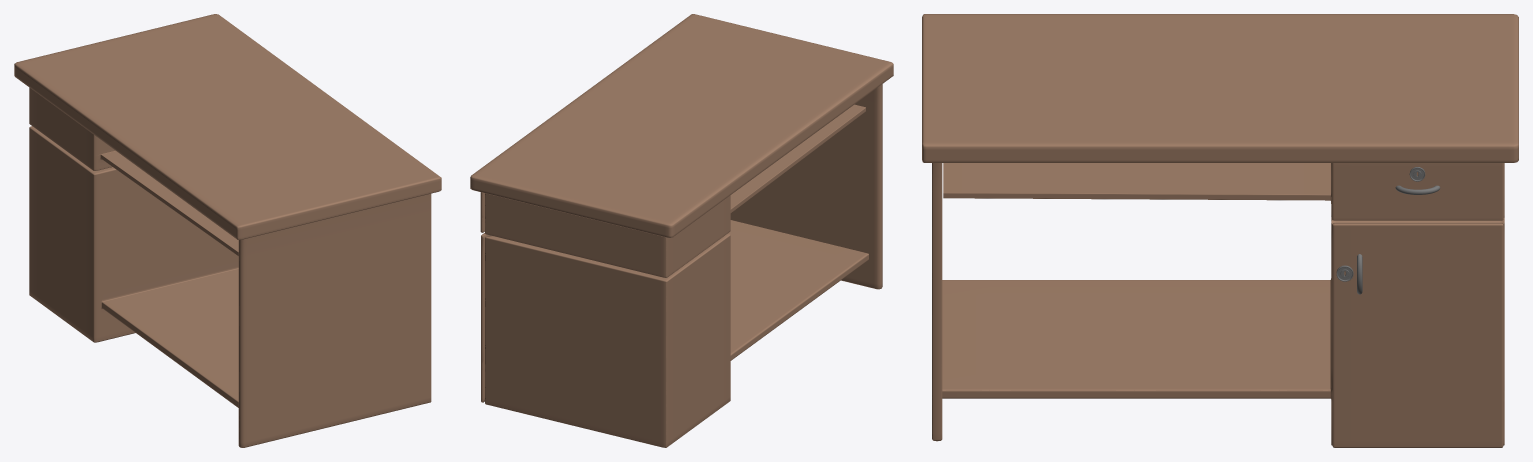
The model's file is desk6.glb.
The picture shows the model from 3 angles, left to right: view 1: azimuth 30°, elevation 25°; view 2: azimuth 150°, elevation 25°; view 3: azimuth 270°, elevation 25°; orthographic projection. The views are drawn at different scales.
Visible parts, largest first — view 1: Object_2; view 2: Object_2; view 3: Object_2, Object_3.
Boxes of the visible parts, x1,y1,x2,y2 form: Object_2: [14, 14, 441, 447]; Object_2: [470, 14, 893, 447]; Object_2: [922, 14, 1518, 447]; Object_3: [1336, 167, 1440, 294].
Bounding box in the file's own units: 0.9468 × 1.02 × 1.78.
